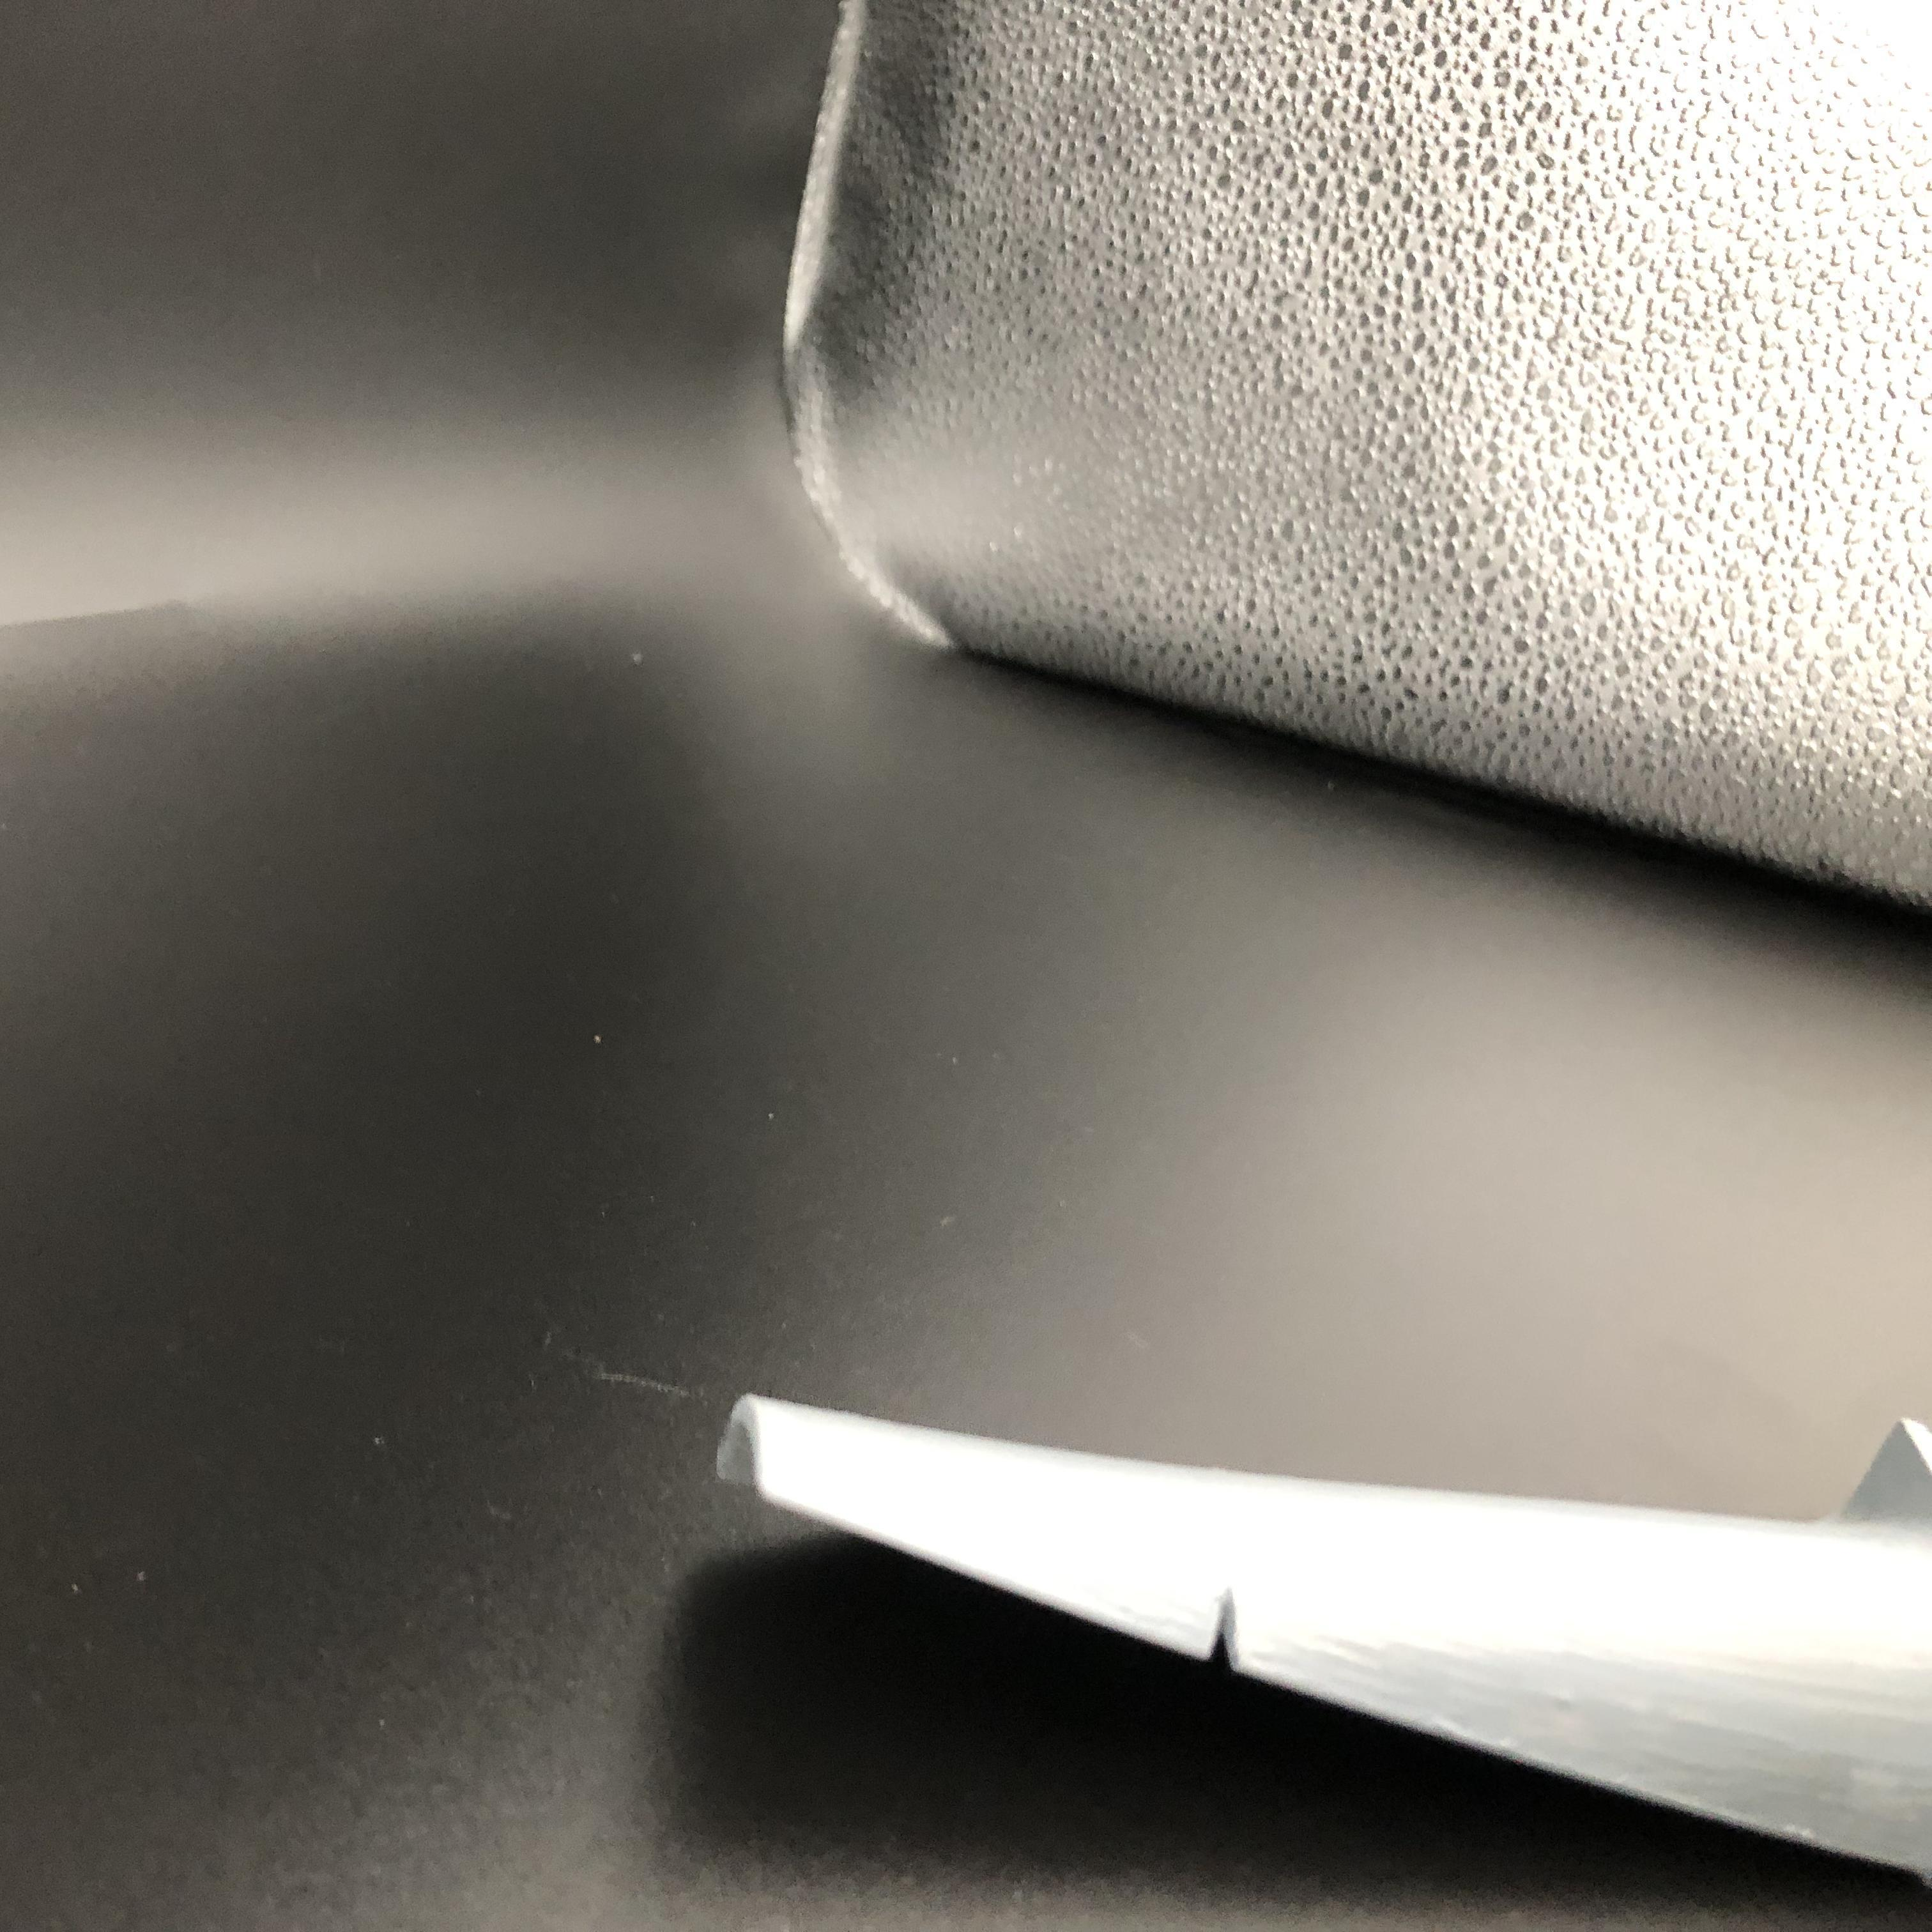groove: (1203, 1592, 1265, 1674)
